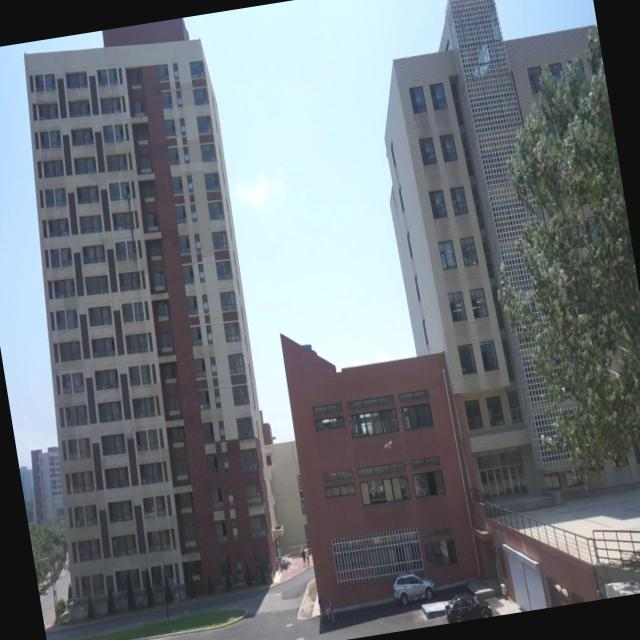drone: (381, 436, 398, 454)
